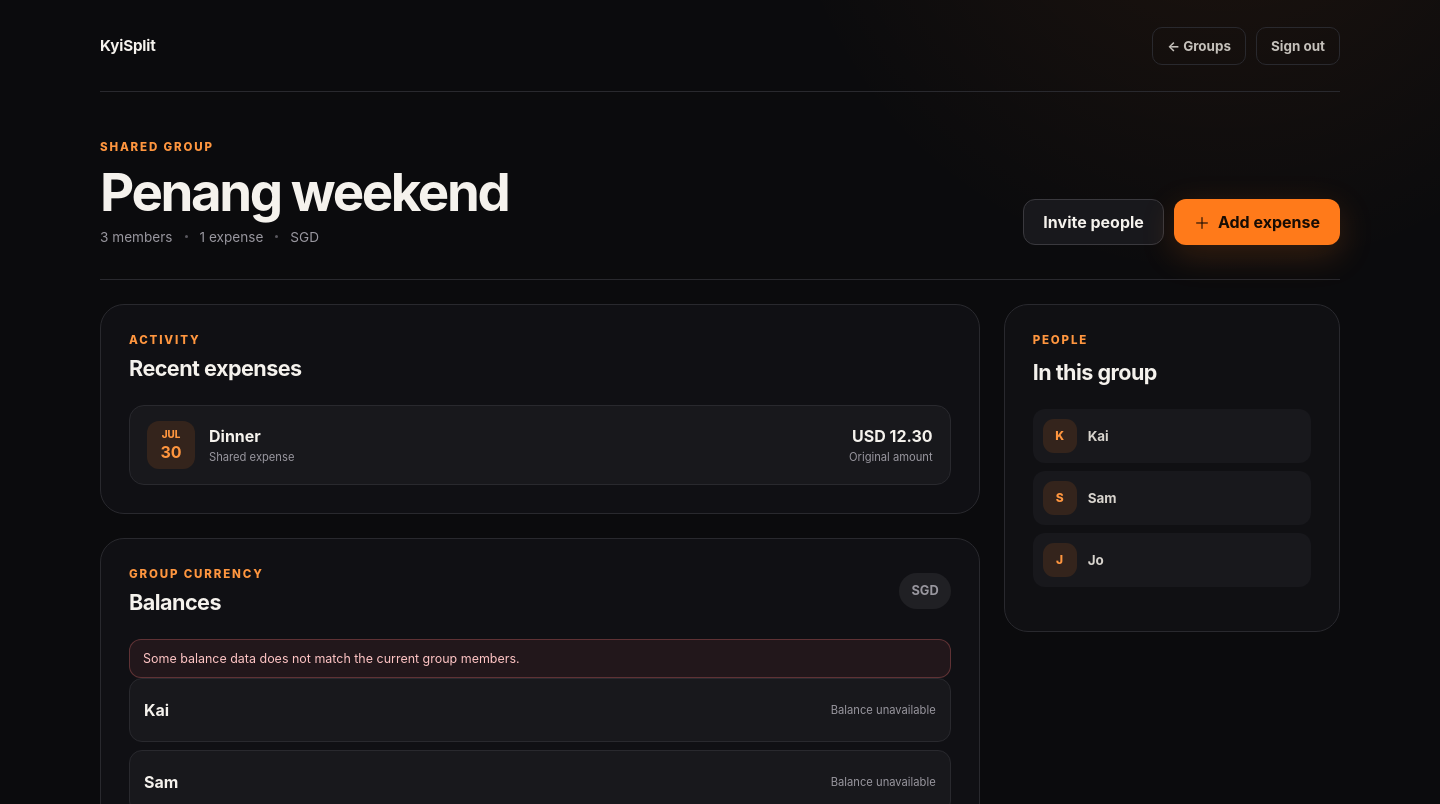
Test: disables duplicate deletion while the request is pending
Click the button with aria-label "View details for Dinner" at coordinates (171, 445), box [129,405,951,485]
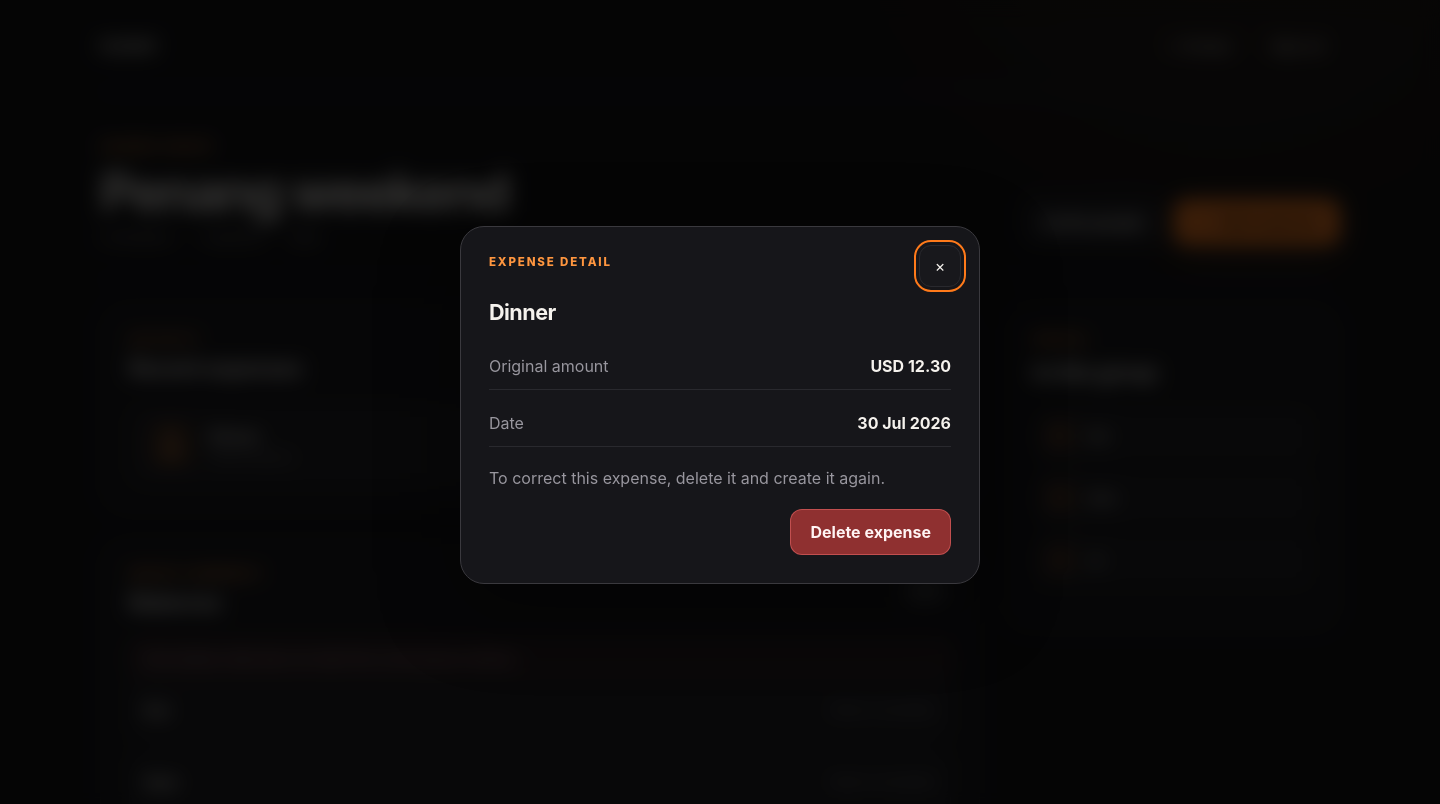
Click the button "Delete expense" at coordinates (871, 532), box [790,509,951,555]
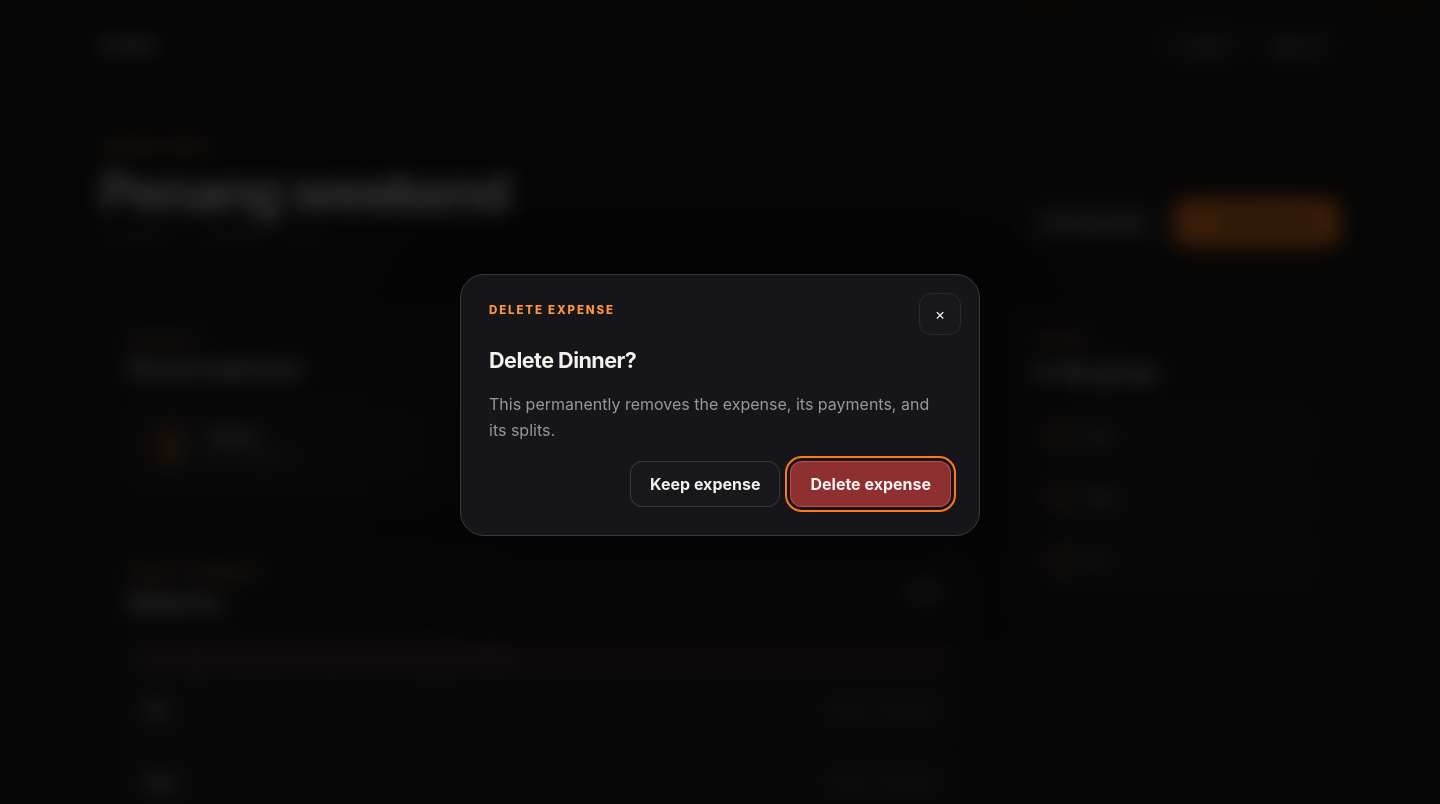
Click the button "Delete expense" at coordinates (871, 484), box [790,461,951,507]
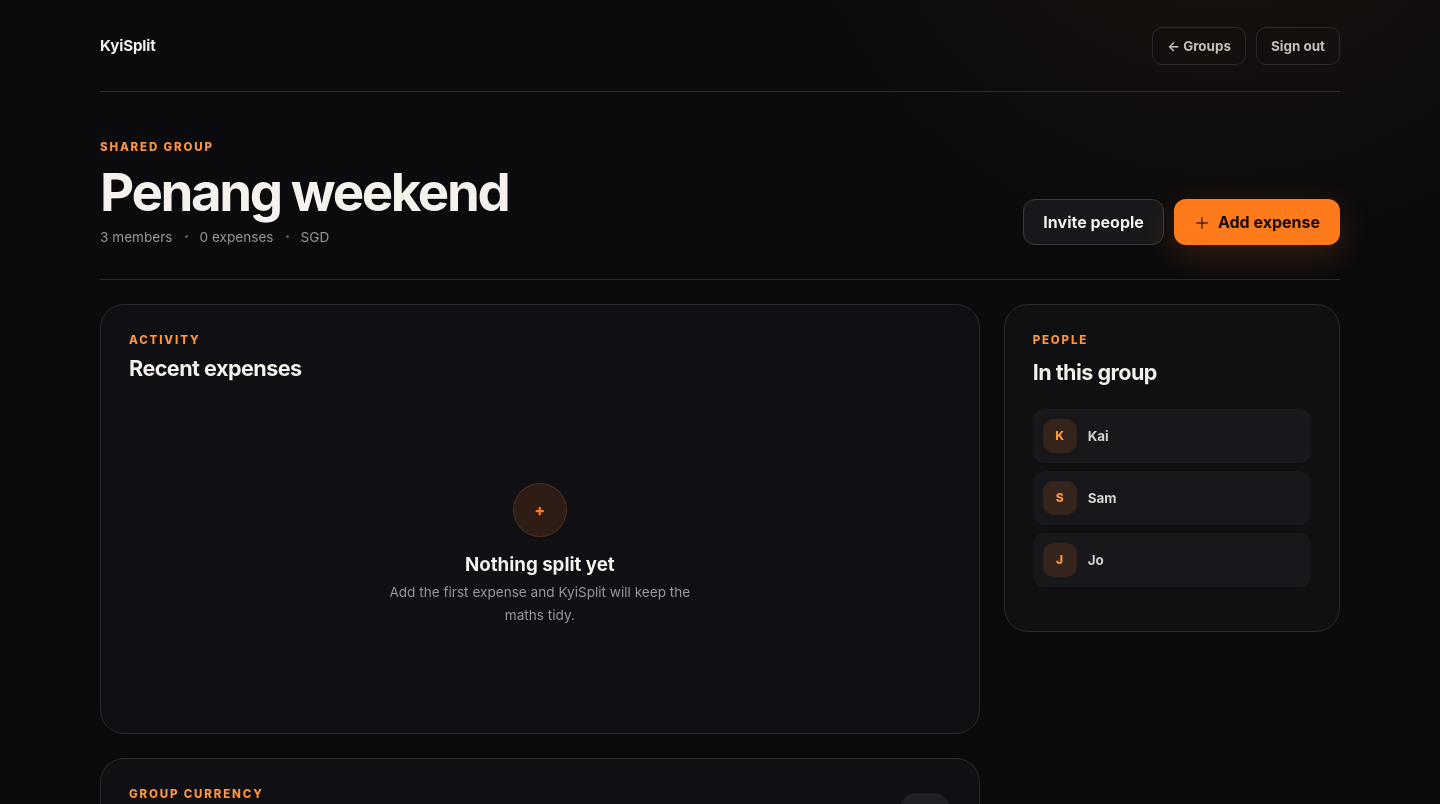
Result: the heading "Nothing split yet" is shown at [465,553,615,576]
